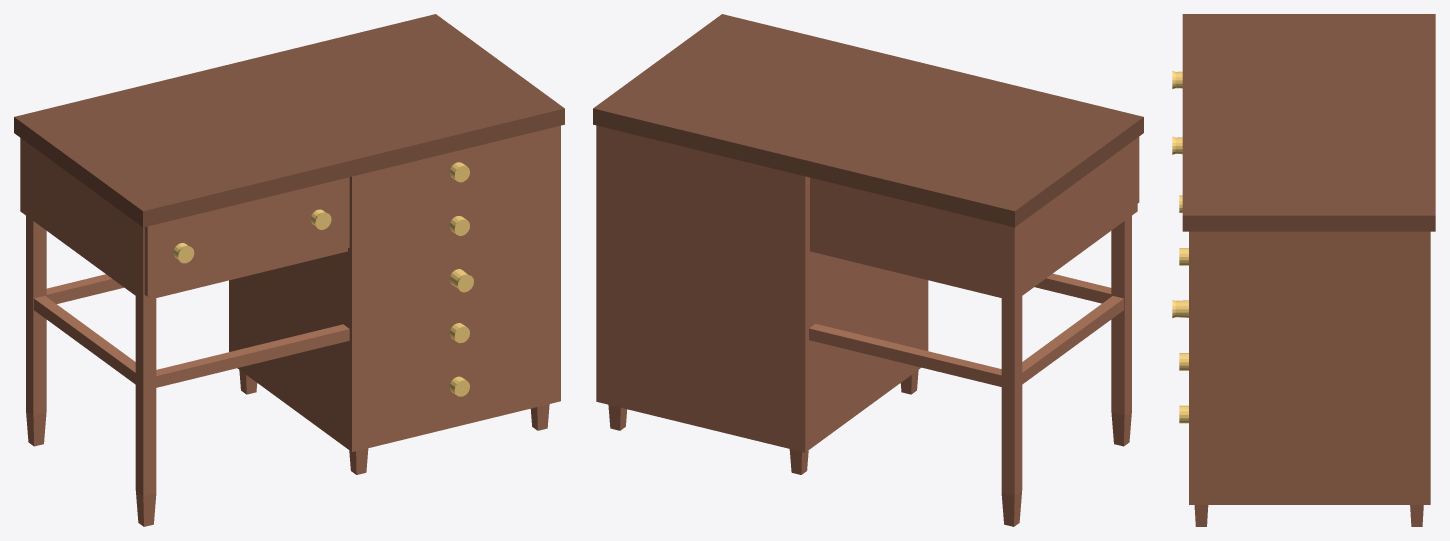
The model's file is телефонный стол.fbx.
3 views of the same model, side by side, from view 1: azimuth 30°, elevation 25°; view 2: azimuth 150°, elevation 25°; view 3: azimuth 270°, elevation 25° (orthographic).
Parts seen in each view (by area): view 1: Cube.034; view 2: Cube.034; view 3: Cube.034.
Boxes of the visible parts, <box> form: Cube.034: <box>14,14,564,526</box>; Cube.034: <box>593,14,1143,526</box>; Cube.034: <box>1172,14,1435,526</box>.
Bounding box in the file's own units: 888 × 648 × 490.
